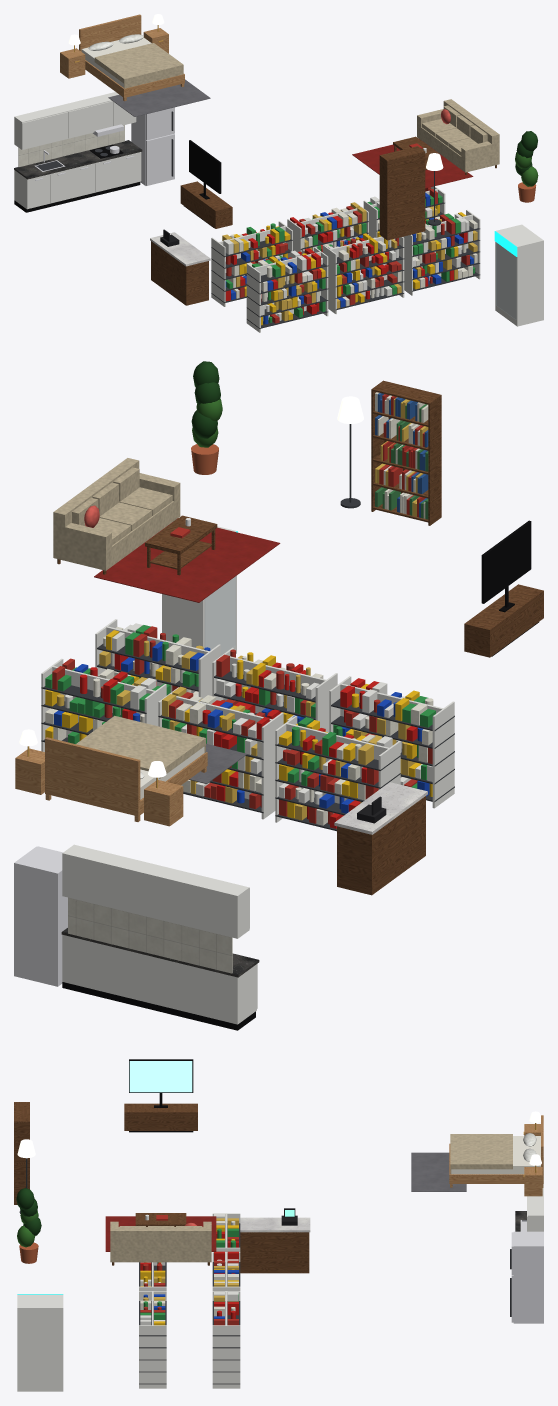
Rendered from i_kyoto_machiya.gltf.
The picture shows the model from 3 angles, top to bottom: view 1: azimuth 30°, elevation 25°; view 2: azimuth 150°, elevation 25°; view 3: azimuth 270°, elevation 25°; orthographic projection. The views are drawn at different scales.
Visible parts, largest first — view 1: I_kyoto_machiya; view 2: I_kyoto_machiya; view 3: I_kyoto_machiya.
Part boxes in pixels (x1,y1,x2,y2): I_kyoto_machiya: (14,14,543,332); I_kyoto_machiya: (14,361,543,1030); I_kyoto_machiya: (14,1059,543,1391).
Size of the model in its own units: 7.33 by 5 by 11.51.
Materials: 37 (11 with a texture image).
